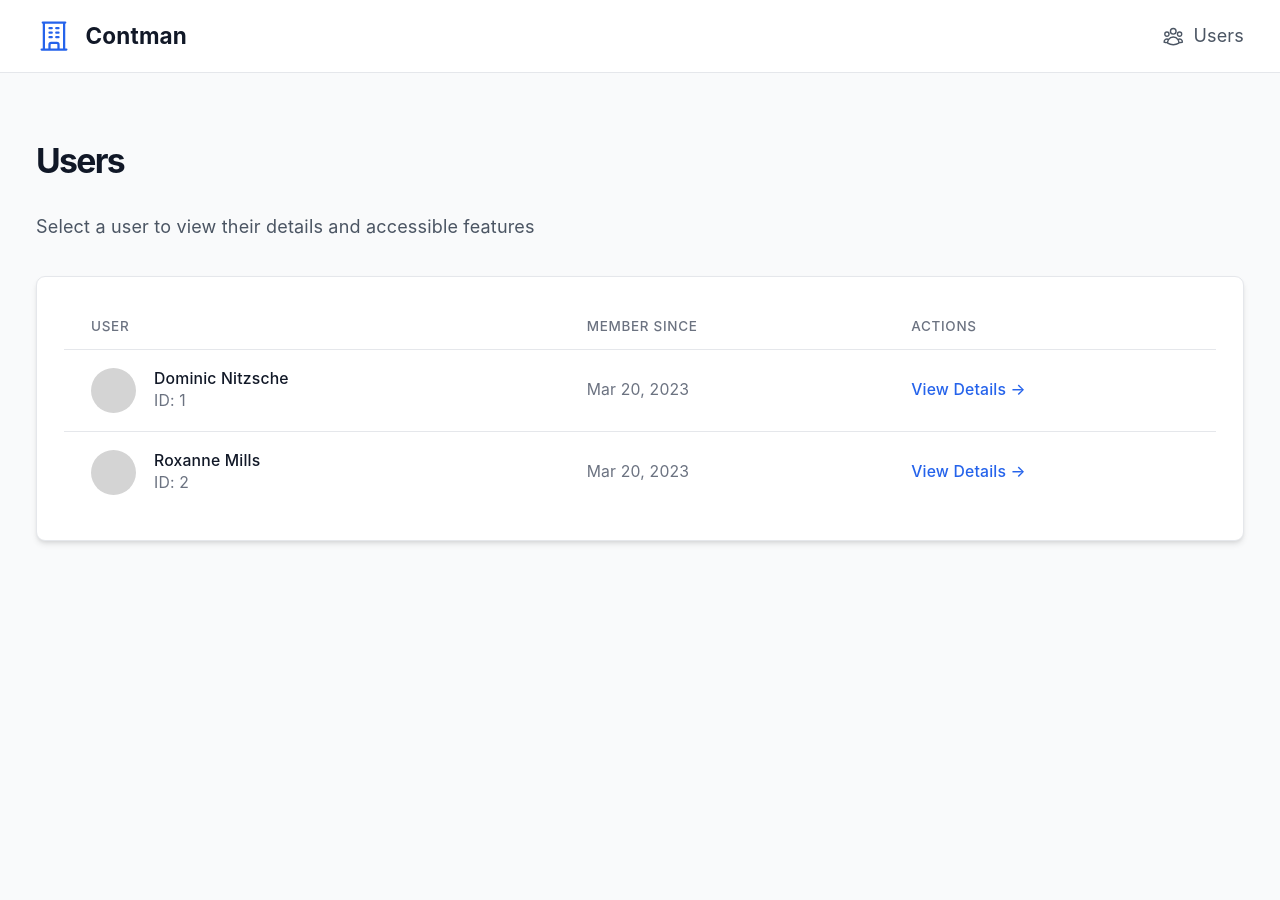
Test case: User Flow Integration › navigates from users list to user details and shows accessible features
The image size is (1280, 900).
Expected: the heading "Users" is shown, [36,140,124,181]
Expected: the text "Dominic Nitzsche" is shown, [154,368,289,390]
Click the link "View Details →" in the row of "Dominic Nitzsche". click: [968, 389]
box: [911,380,1026,399]
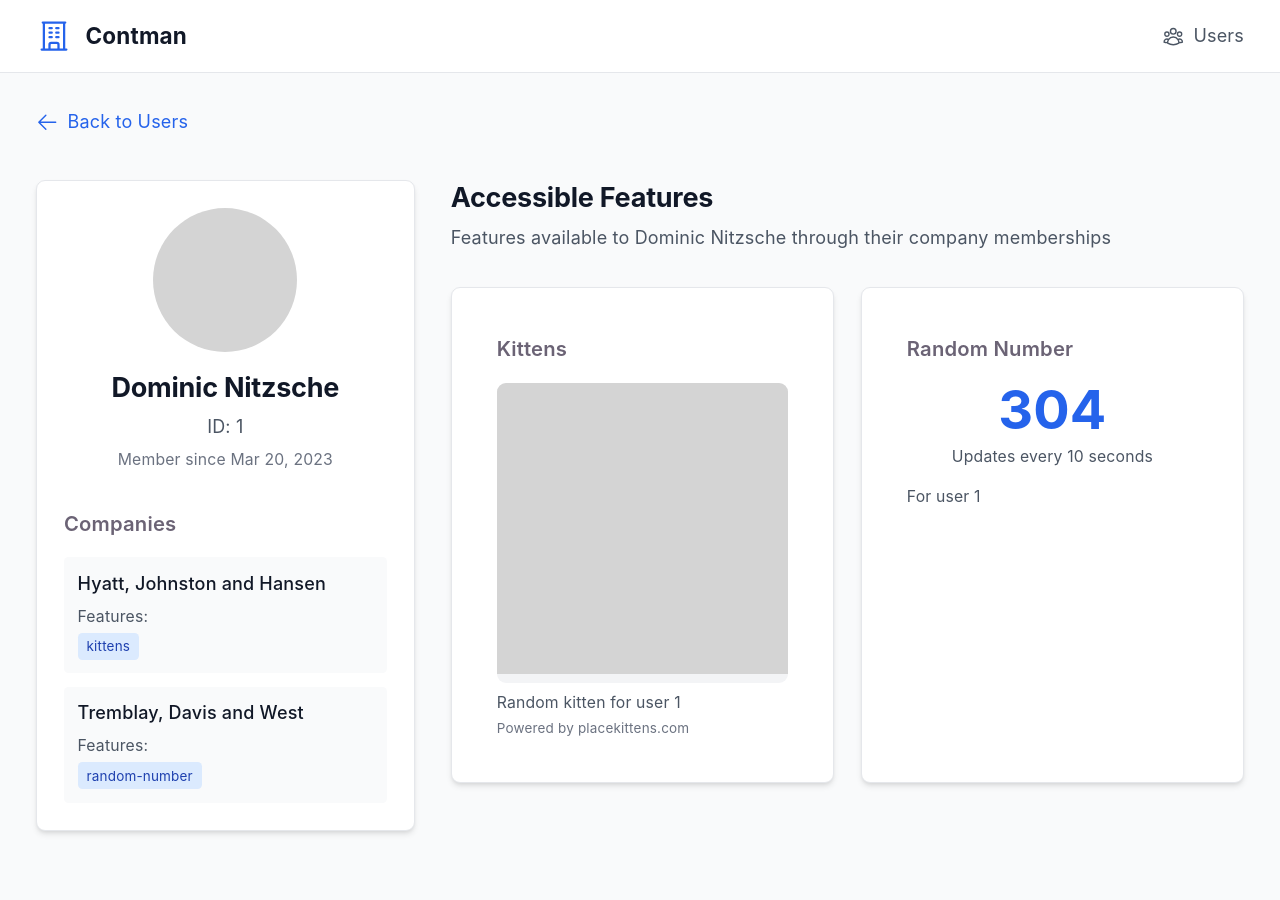
Expected: the heading "Dominic Nitzsche" is shown, [112,371,339,404]
Expected: the text "Member since Mar 20, 2023" is shown, [118,450,333,469]
Expected: the text "Hyatt, Johnston and Hansen" is shown, [78,573,326,594]
